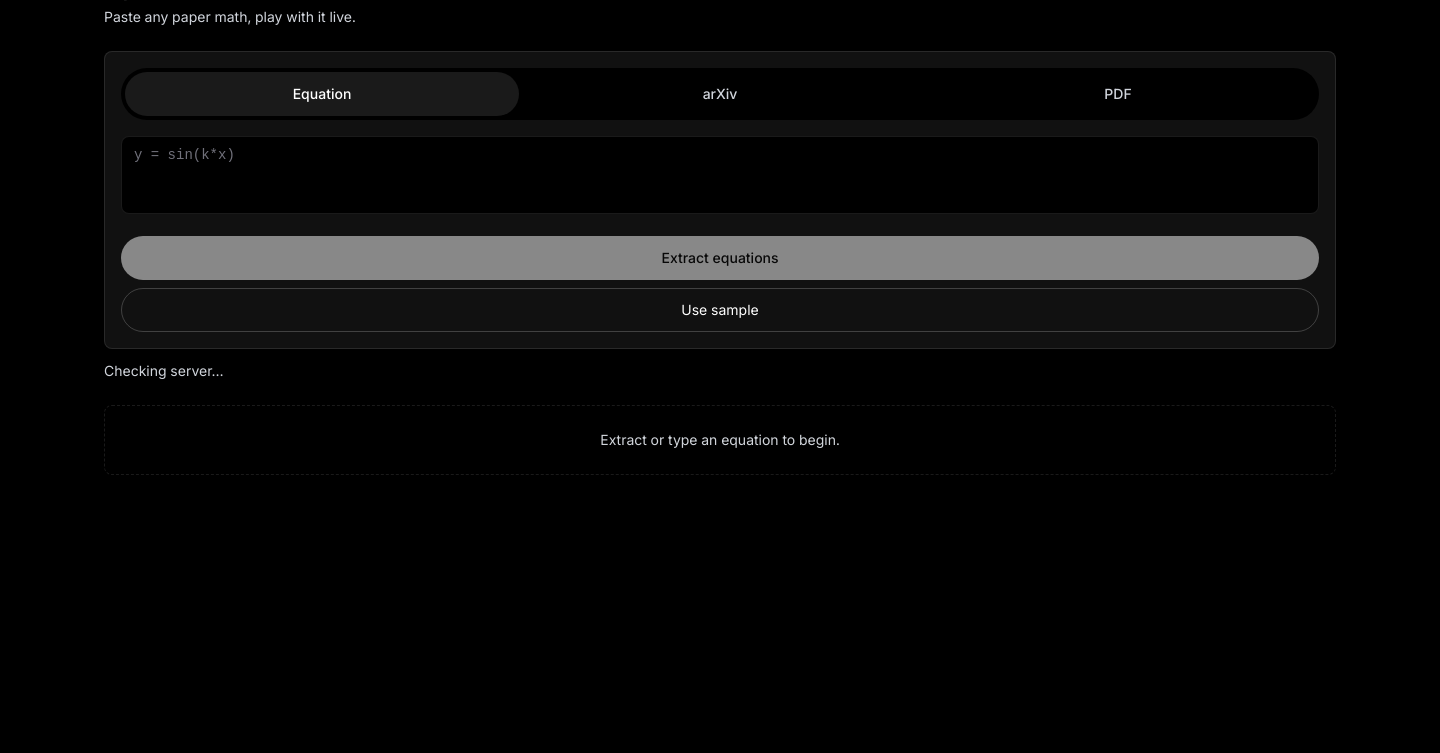
Test case: App inline edit type refresh › editing a row re-derives its type badge and hint
Click the button "Use sample": (720,310) 121,288 -> 1319,332
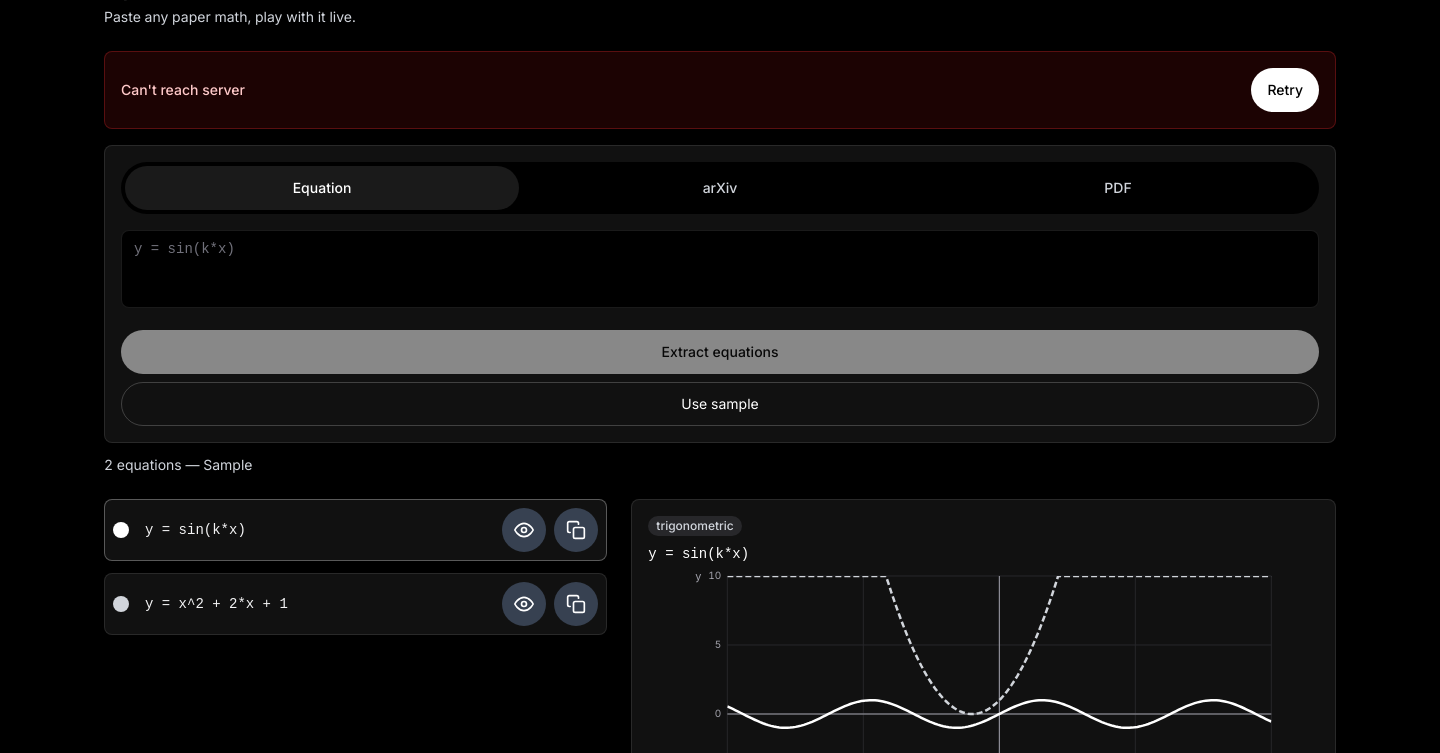
Result: the text "trigonometric" is shown at 648,516 -> 742,536
Replace the text in the 1st field named "Equation" with "y = (x - 15)": (320,530) 145,520 -> 494,540
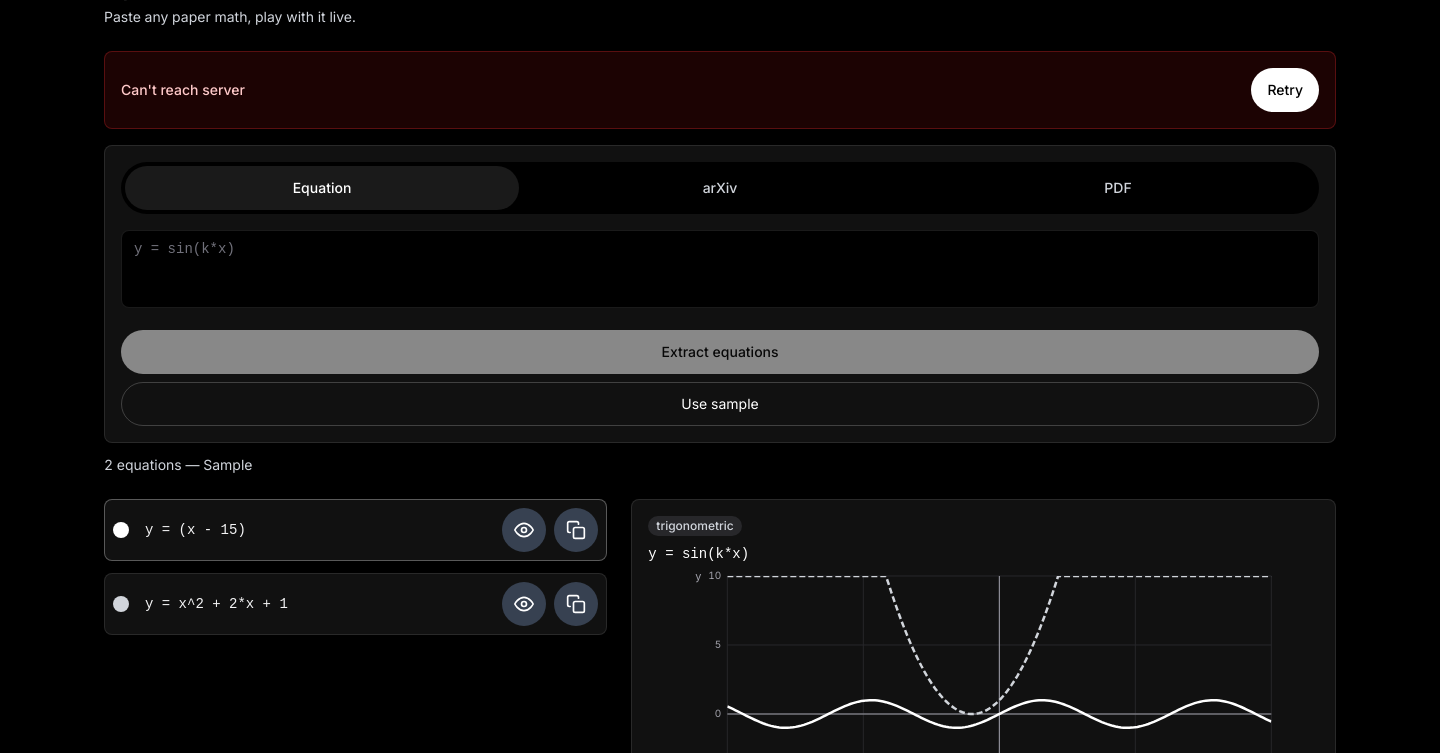
Leave the 1st field named "Equation", box 145,520 -> 494,540
(page scrolled)
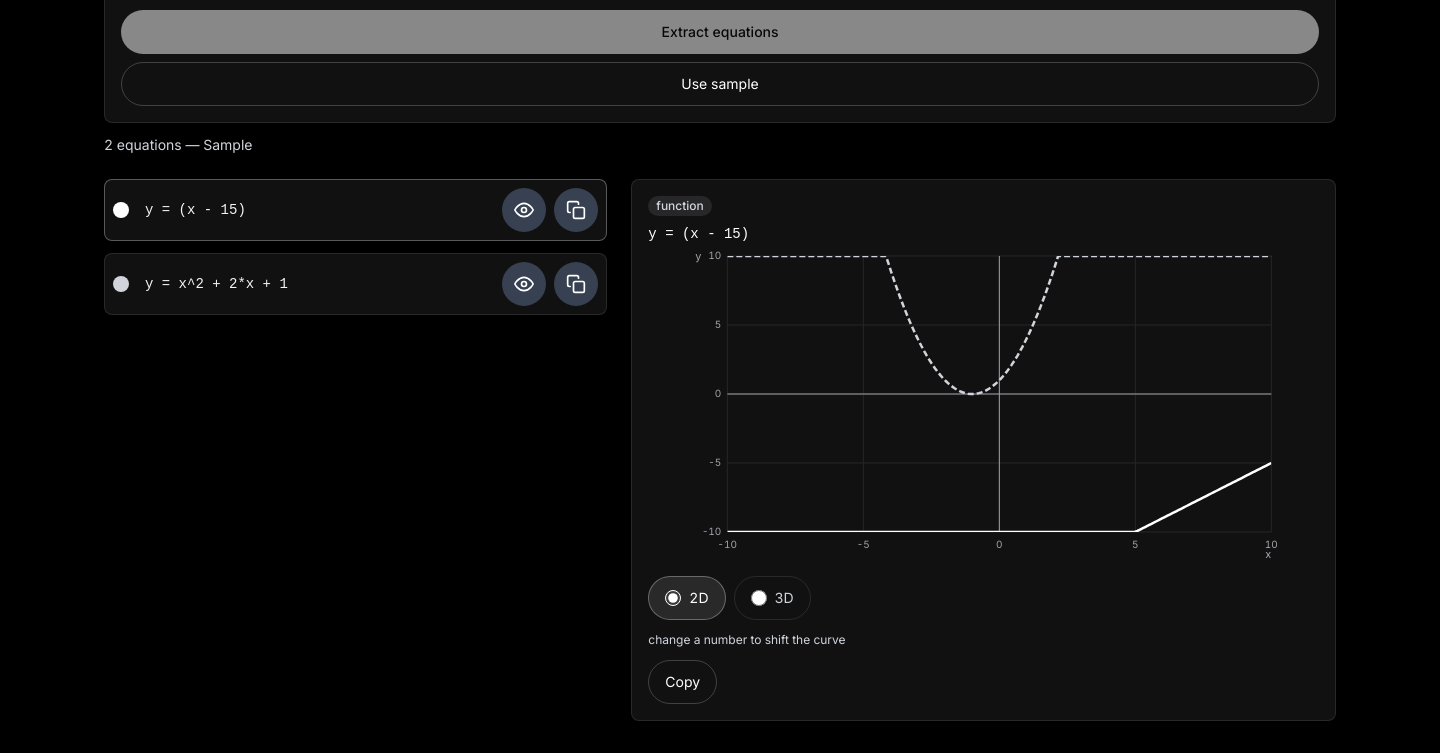
Result: the text "trigonometric" is gone
Result: the text "function" is shown at 648,196 -> 712,216
Result: the text "change a number to shift the curve" is shown at 648,632 -> 846,647
